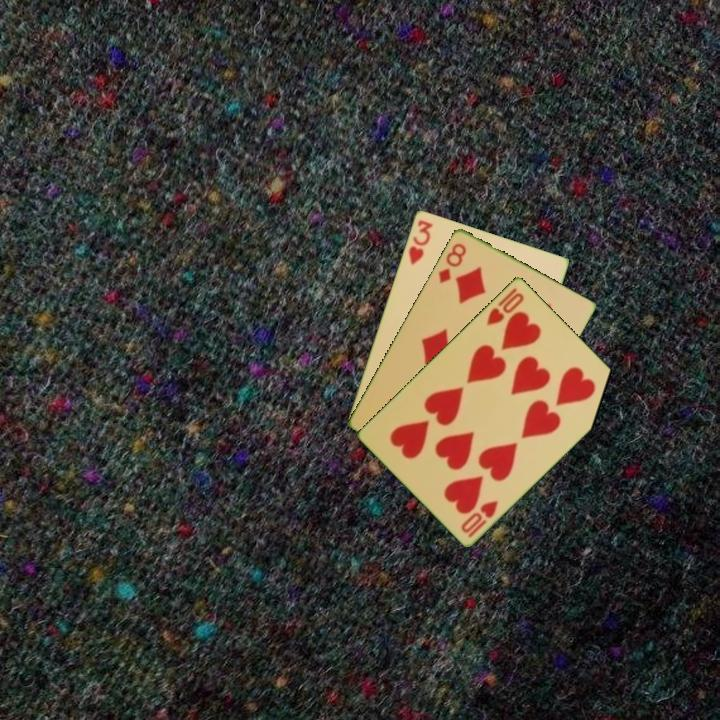10h: (483, 283, 527, 328), (458, 497, 501, 540)
3h: (405, 216, 435, 268)
8d: (435, 239, 469, 286)
